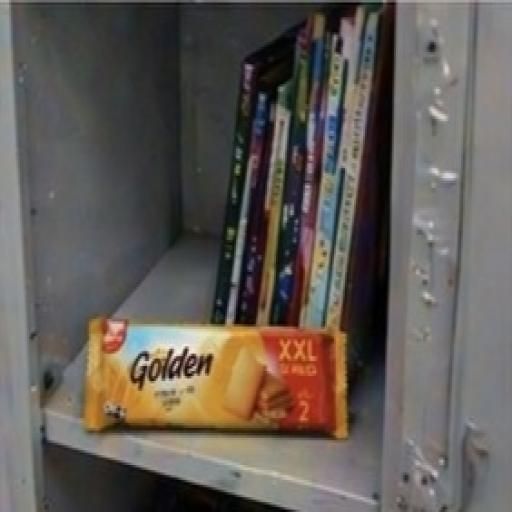golden: (45, 257, 367, 495)
